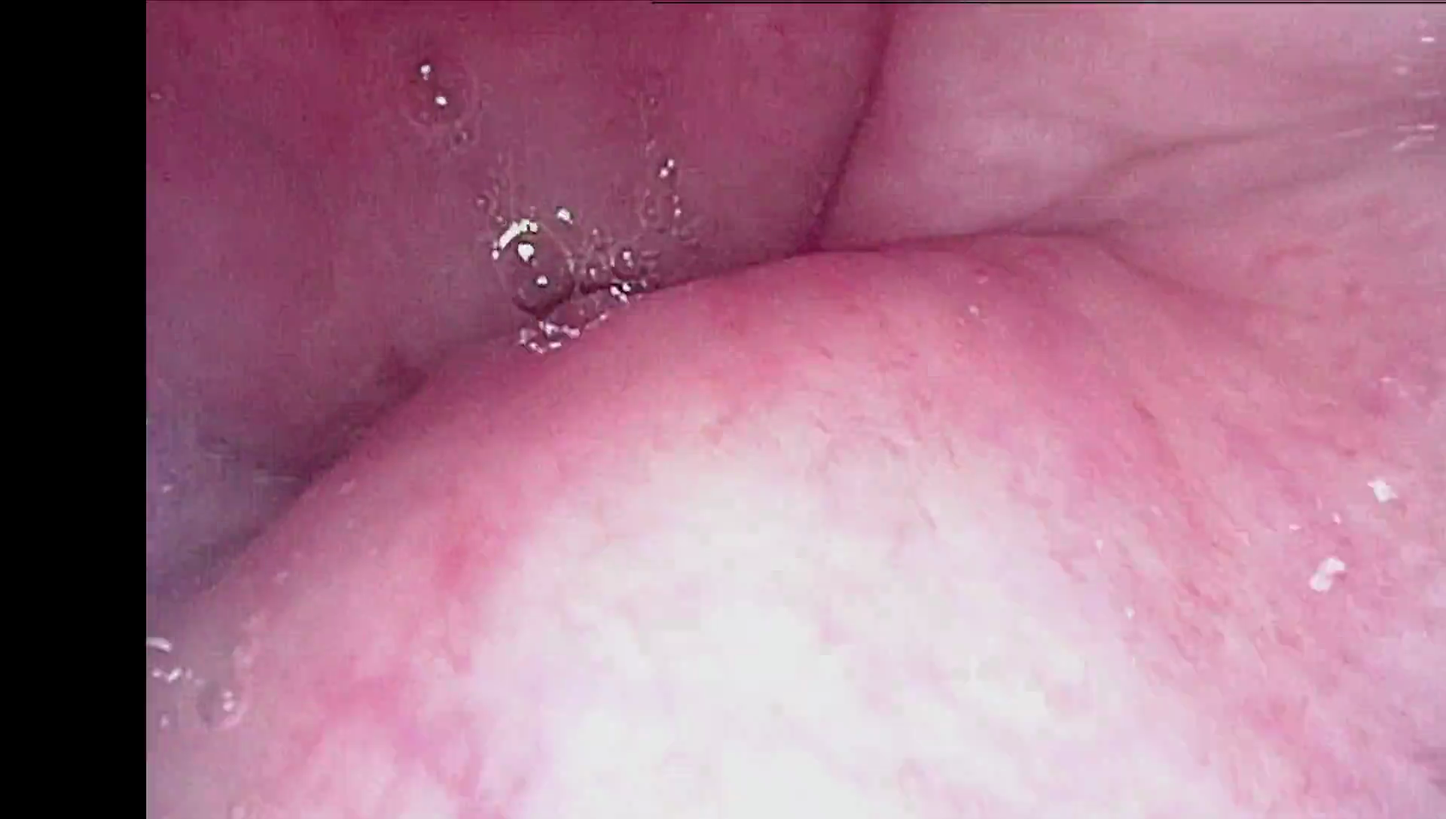close_wall: (435, 401, 1314, 819)
